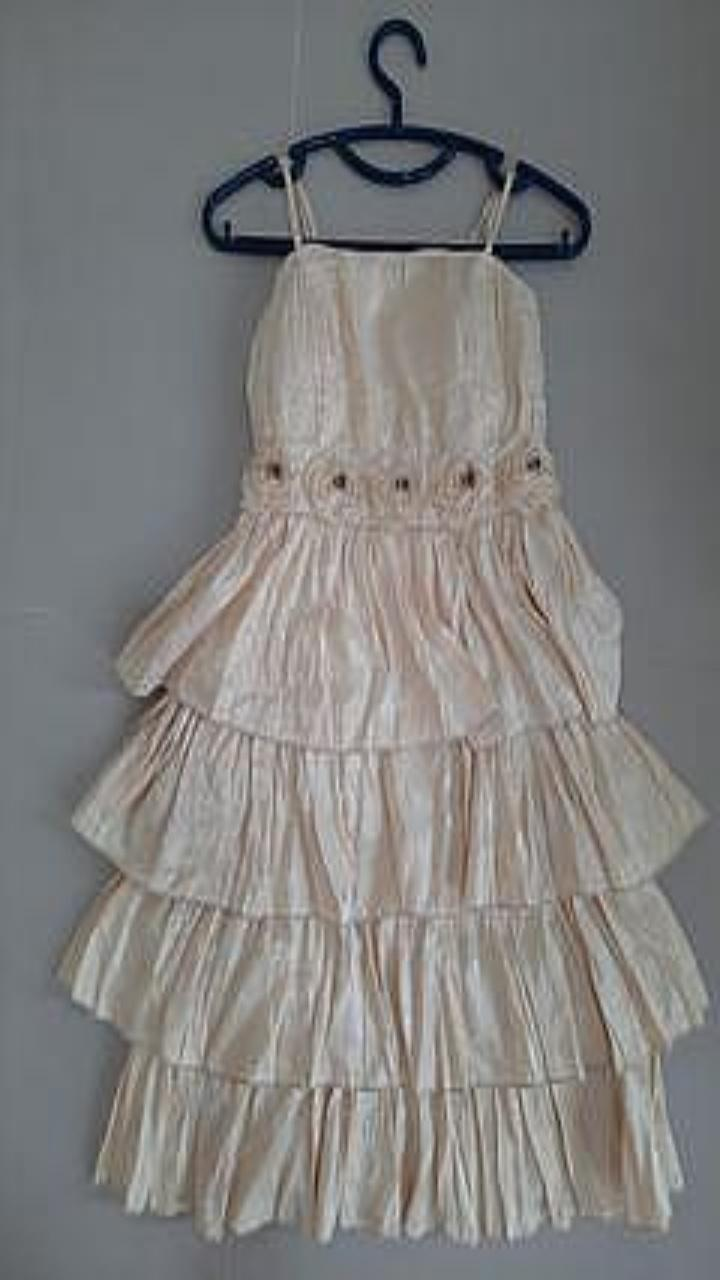Dresses: (58, 154, 707, 1242)
